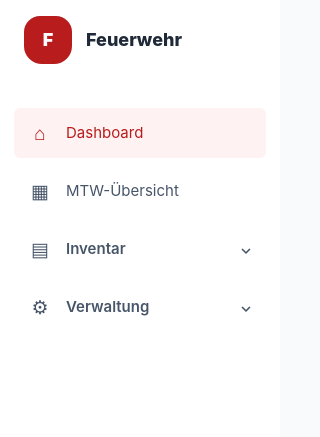
it: opens and closes the inventory tree and navigates to the dedicated type page
Expected: the link "Inventarübersicht" is not shown
Click the button "▤ Inventar ⌄" at (140, 249), box 14,224 -> 266,274
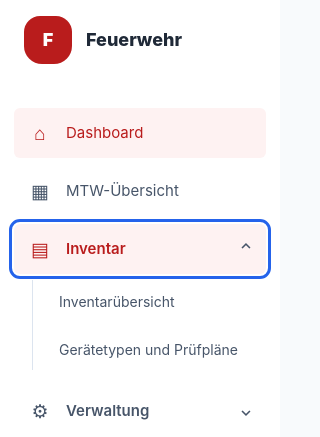
Now the button "▤ Inventar ⌃" is expanded, box 14,224 -> 266,274
Click the link "Gerätetypen und Prüfpläne" at (148, 349), box 59,340 -> 238,358
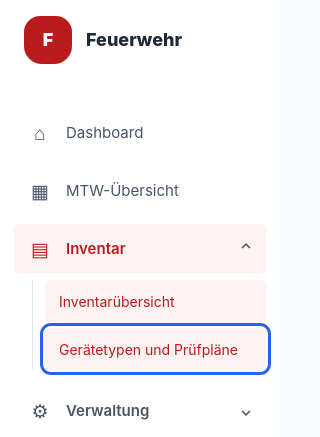
Now the link "Gerätetypen und Prüfpläne" is marked as current, box 45,328 -> 266,370
Click the button "▤ Inventar ⌃" at (140, 249), box 14,224 -> 266,274
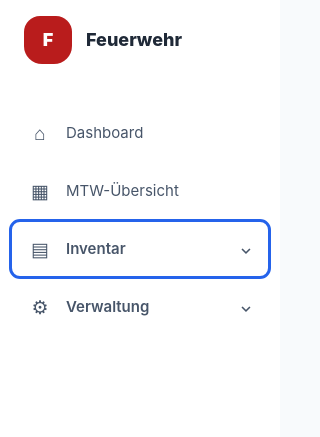
Now the link "Gerätetypen und Prüfpläne" is gone
